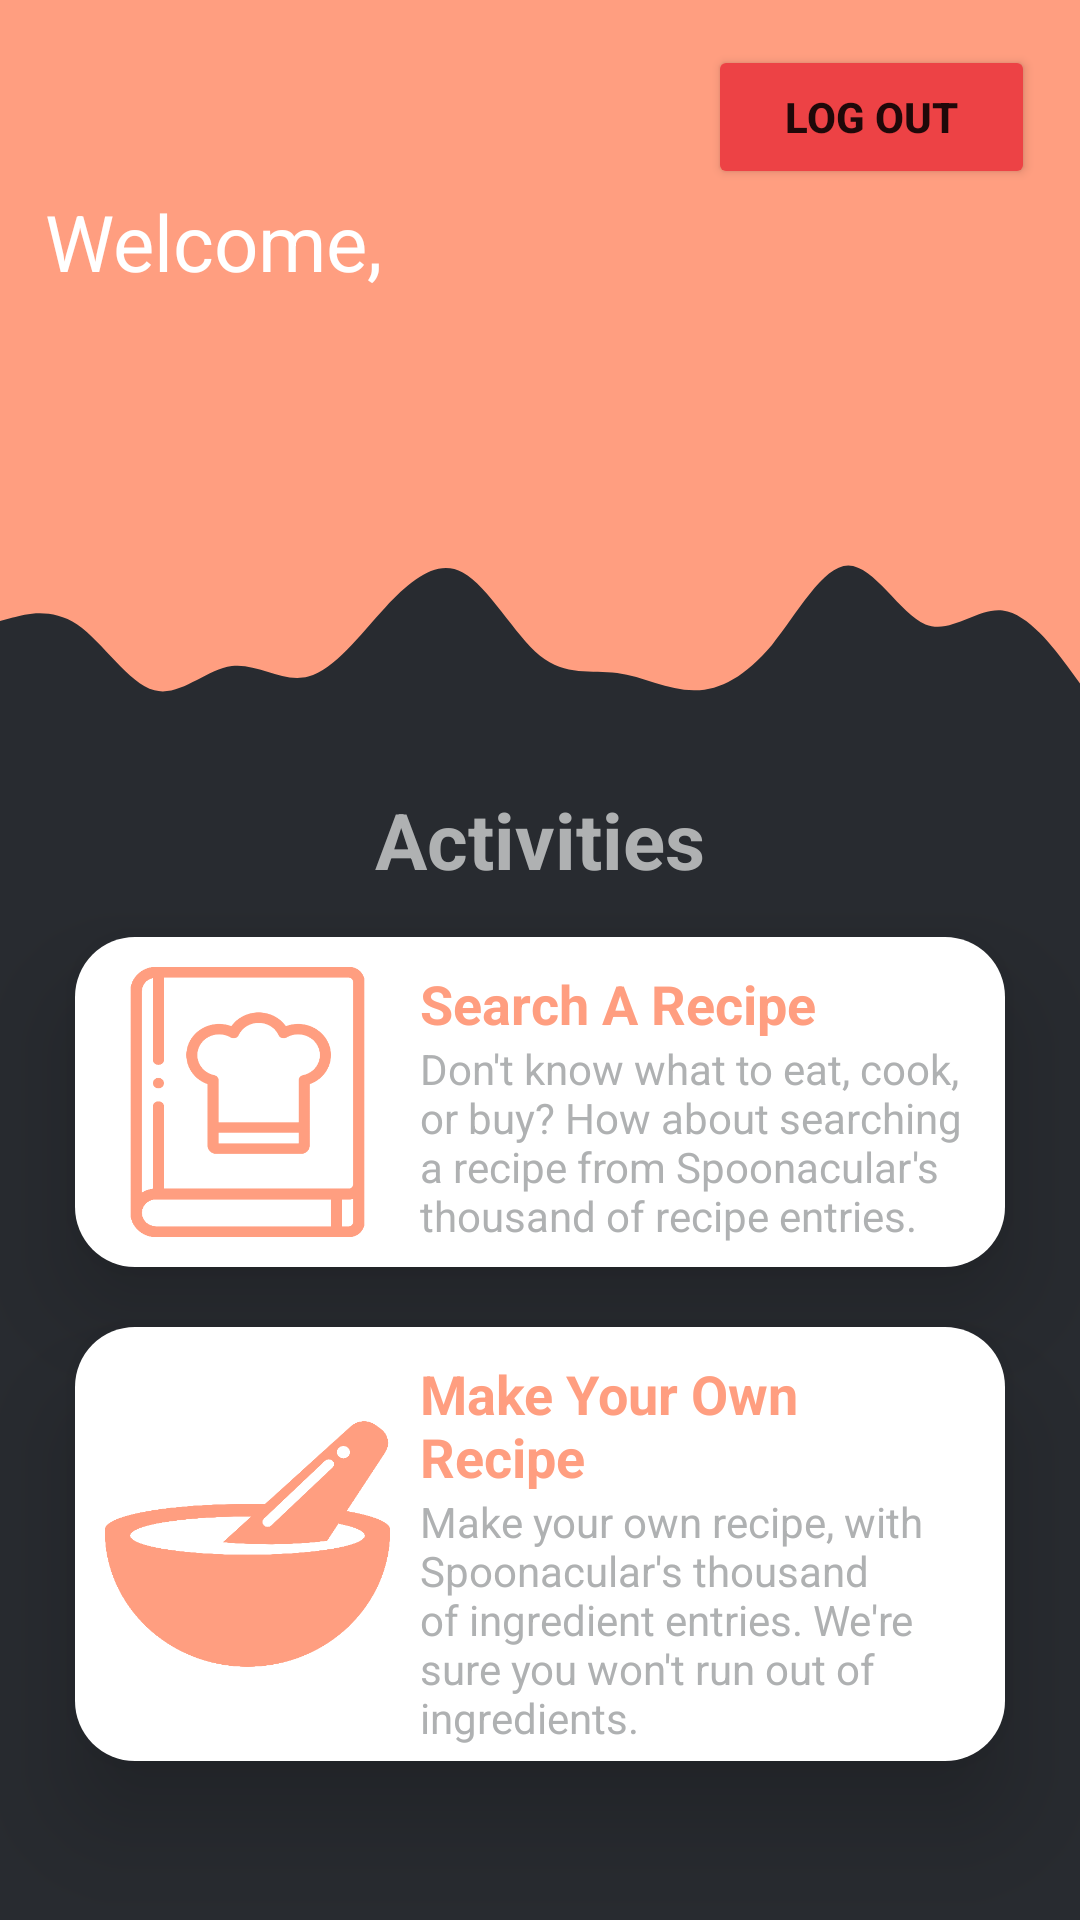

Named icons in this screenshot (1080x1920) and their bounding boxes, [left=x1, top=y1, right=x2, bottom=y2]:
dashboardfragment recipebook: [left=130, top=967, right=365, bottom=1237]
